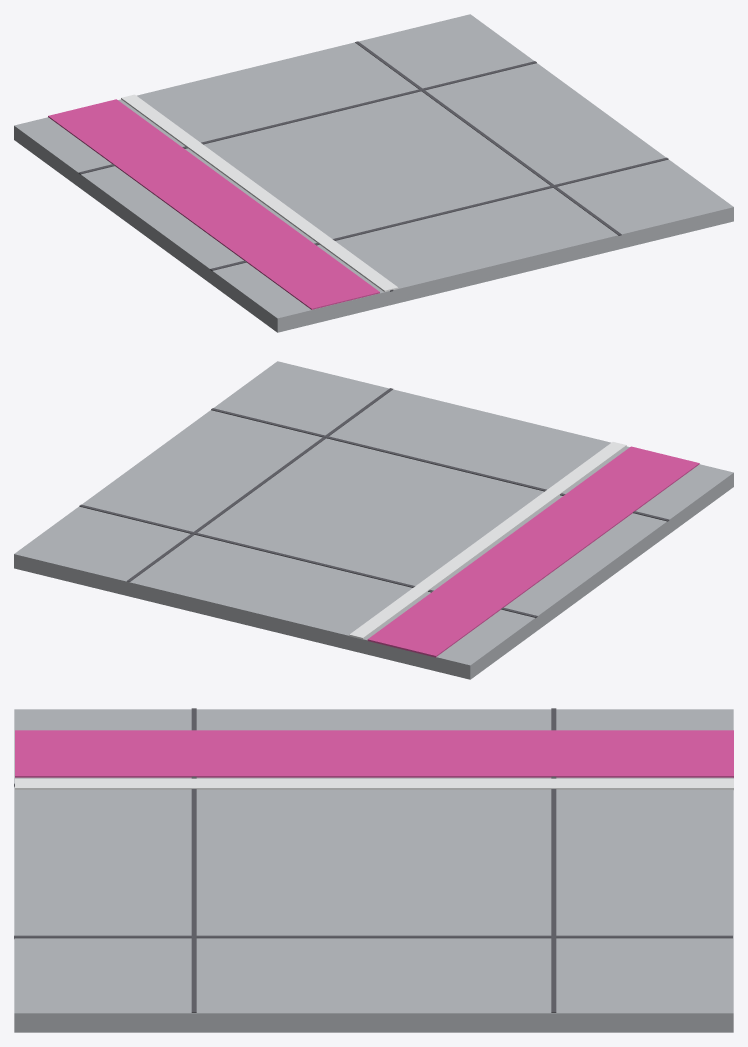
File: tattoo-and-piercing-studio-studio-floor-tile-915d931e__34561.glb
3 views of the same model, one above another, from view 1: azimuth 30°, elevation 25°; view 2: azimuth 150°, elevation 25°; view 3: azimuth 270°, elevation 25° (orthographic). The views are drawn at different scales.
Parts seen in each view (by area): view 1: studio-floor-tile; view 2: studio-floor-tile; view 3: studio-floor-tile.
Boxes of the visible parts, <box> form: studio-floor-tile: <box>14,14,733,332</box>; studio-floor-tile: <box>14,361,733,679</box>; studio-floor-tile: <box>14,708,733,1032</box>.
Bounding box in the file's own units: 2 × 0.0661 × 2.
